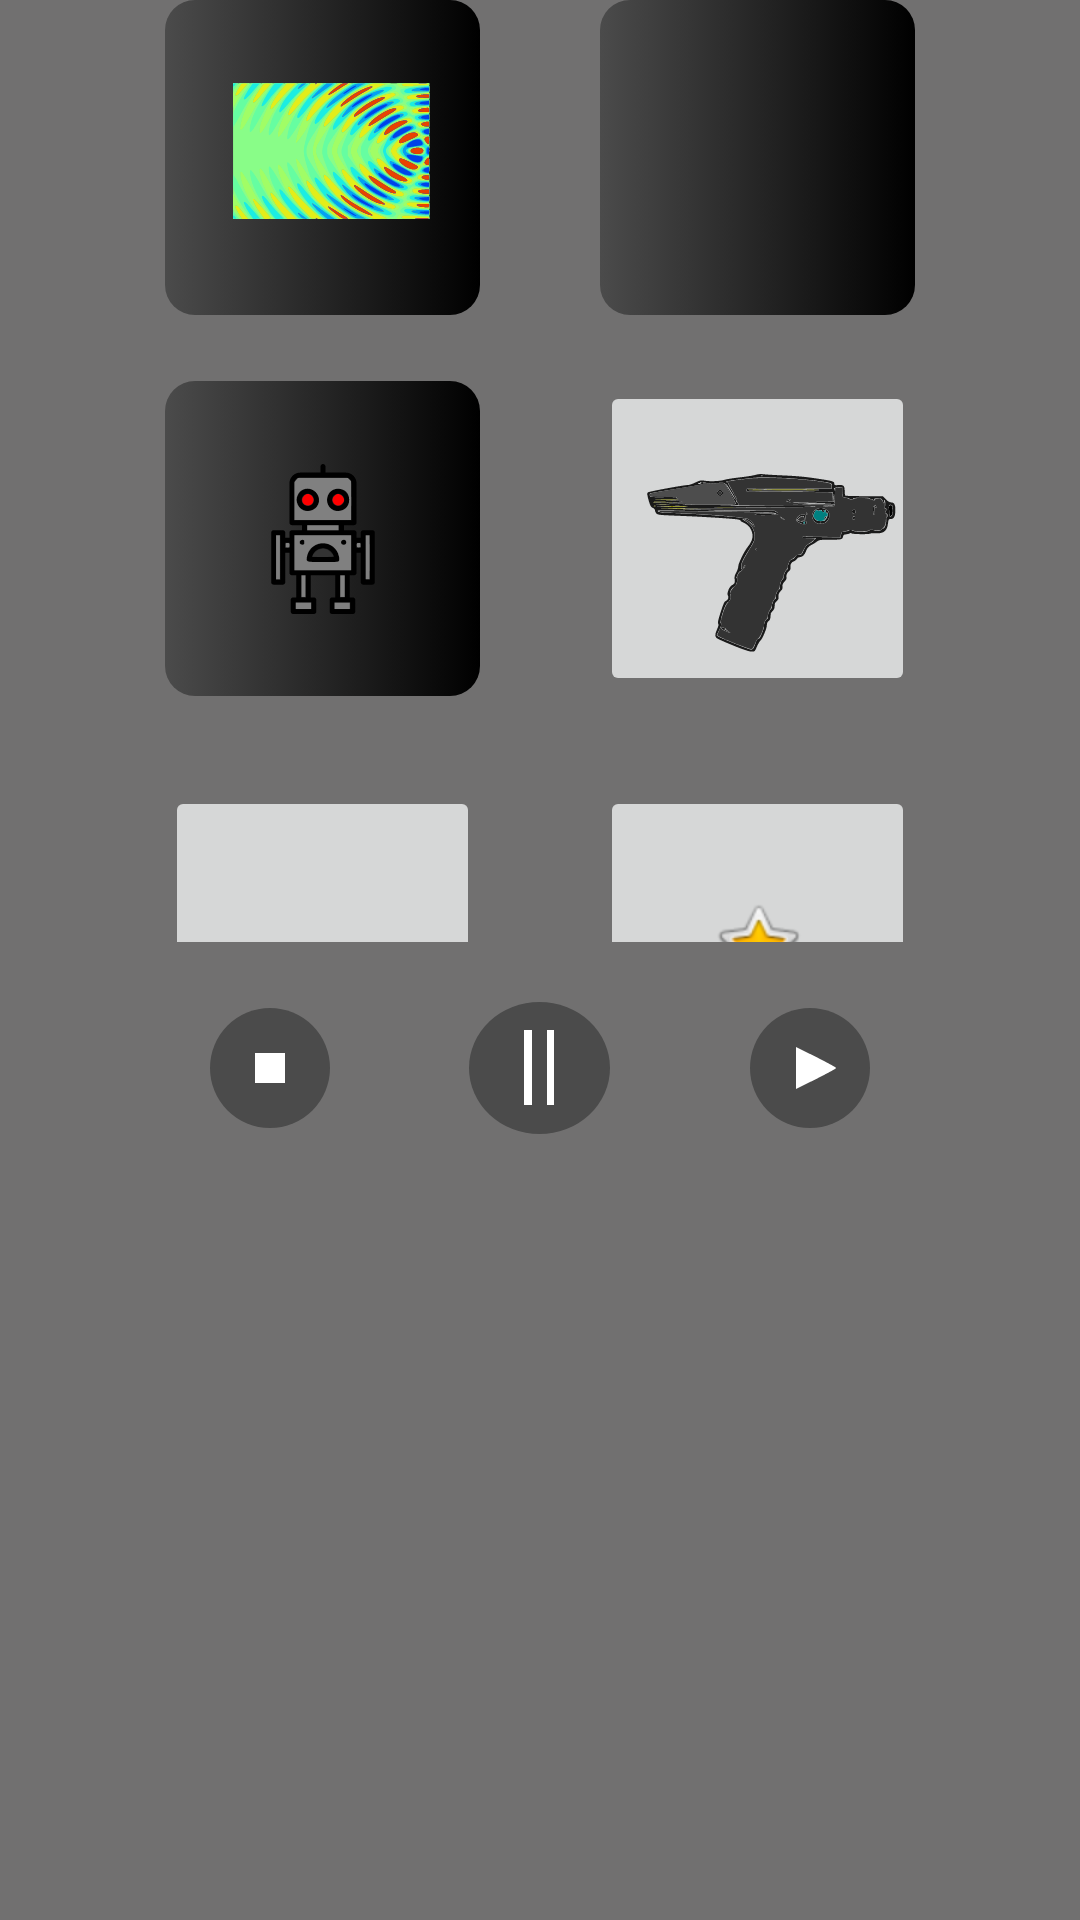

Icons on this 1080x1920 Android screen, each with its box as Rect(x1, y1, x2, y2):
pause: Rect(469, 1002, 610, 1134)
play: Rect(750, 1008, 870, 1128)
robot: Rect(165, 381, 480, 696)
stop: Rect(210, 1008, 330, 1128)
